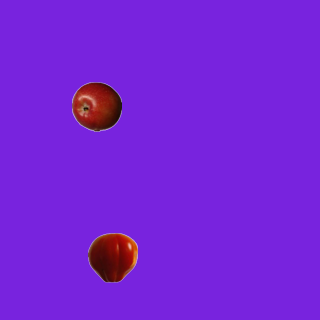Apple Braeburn: (71, 81, 121, 131)
Tomato 1: (87, 232, 137, 282)
